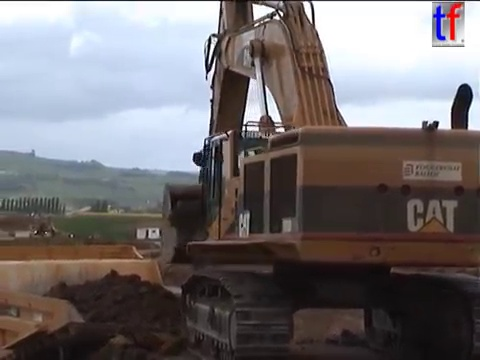excavator: (157, 1, 480, 360), (24, 215, 71, 245)
truck: (1, 240, 196, 360)
